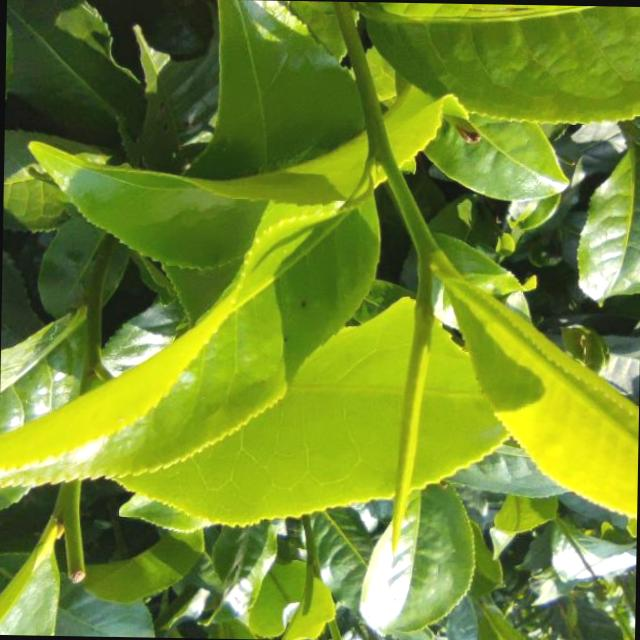Stem: (416, 235, 434, 253)
